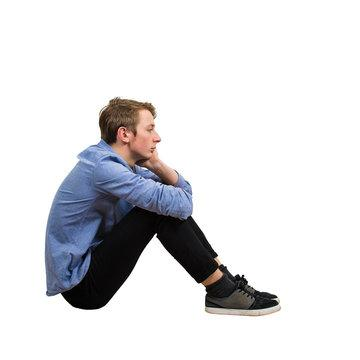long sleeve shirt: (44, 137, 193, 297)
trousers: (60, 203, 221, 315)
